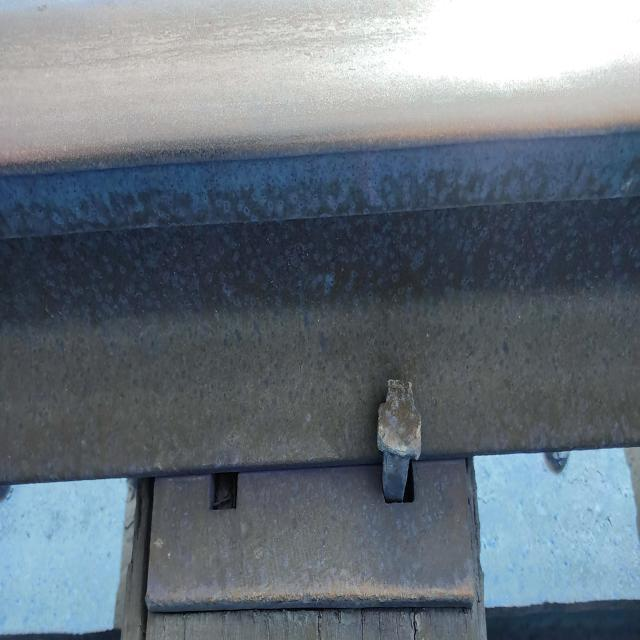Good Fasteners: (377, 380, 421, 502)
Missing Dogscrew: (210, 472, 238, 510)
